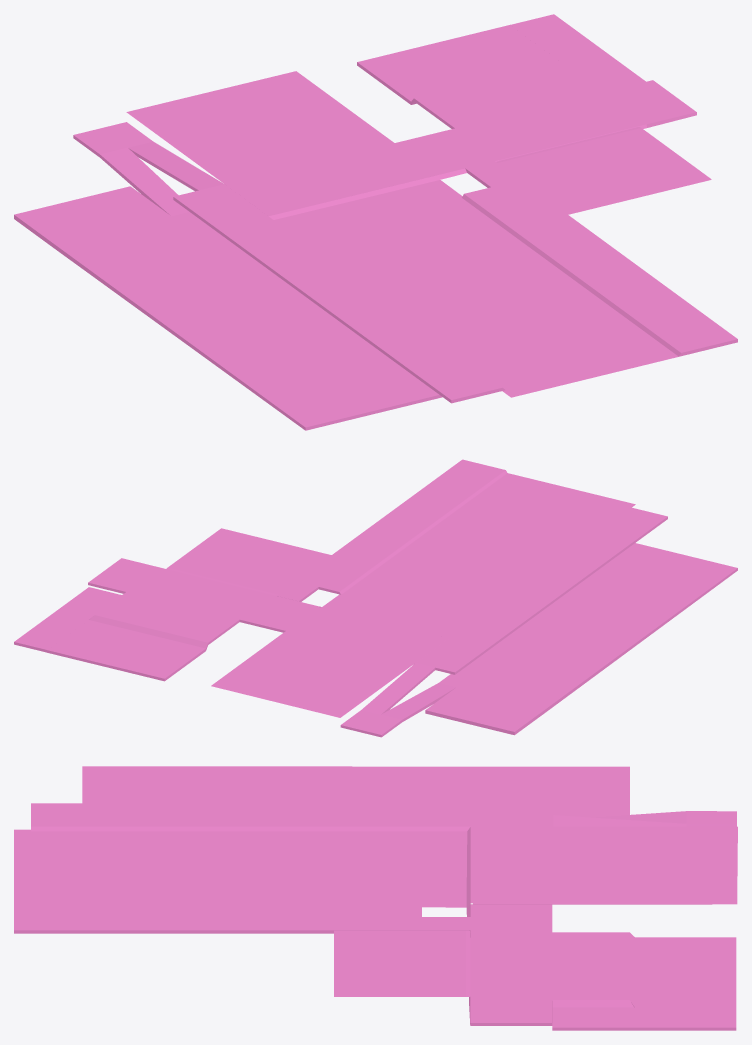
Rendered from InstitutoNavMesh3.0.glb.
3 renders of one model, top to bottom at view 1: azimuth 30°, elevation 25°; view 2: azimuth 150°, elevation 25°; view 3: azimuth 270°, elevation 25°, orthographic. The views are drawn at different scales.
Parts seen in each view (by area): view 1: navmesh; view 2: navmesh; view 3: navmesh.
Boxes of the visible parts, x1=… form: navmesh: x1=14, y1=14, x2=737, y2=430; navmesh: x1=14, y1=459, x2=737, y2=737; navmesh: x1=14, y1=766, x2=737, y2=1030.
Size of the model in its own units: 77.59 by 2.9 by 86.67.
